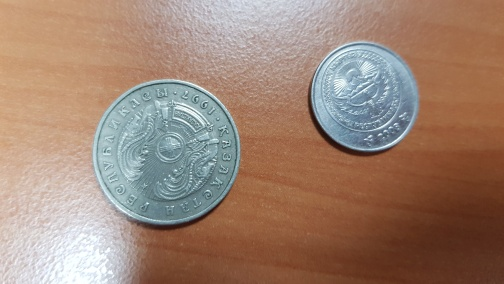coin: (93, 78, 241, 229), (308, 40, 420, 154)
